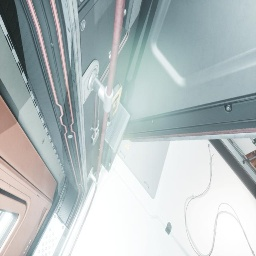EmergencyPhone ,: (107, 81, 122, 127)
